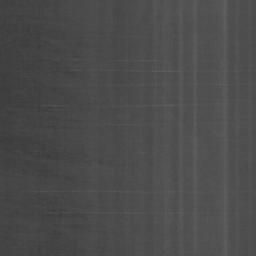Waist folding: (47, 211, 173, 218), (34, 189, 176, 194), (70, 68, 178, 74), (0, 103, 68, 112), (54, 57, 154, 63), (112, 102, 196, 109), (97, 123, 126, 127), (0, 14, 22, 16)
